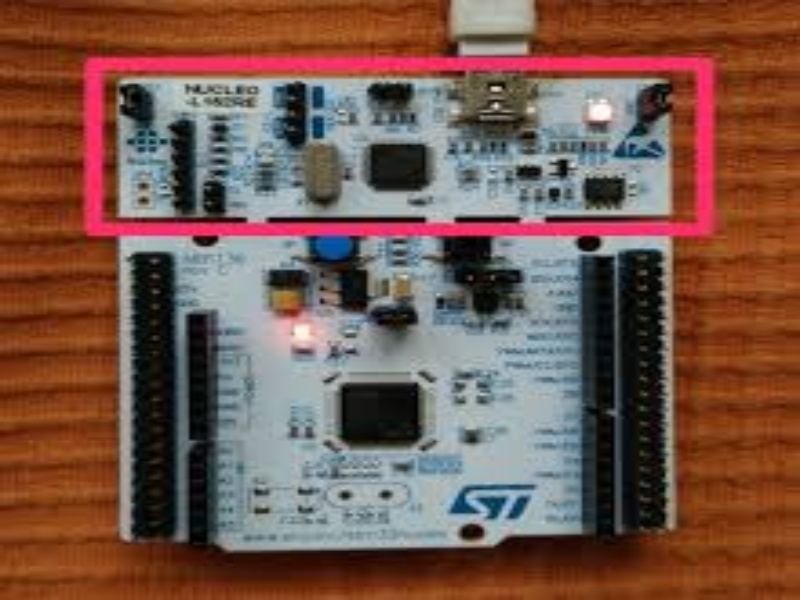stmnucleo: (66, 40, 706, 564)
